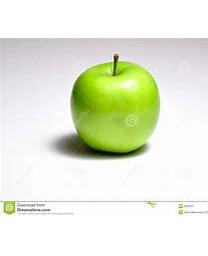apple: (69, 52, 160, 153)
